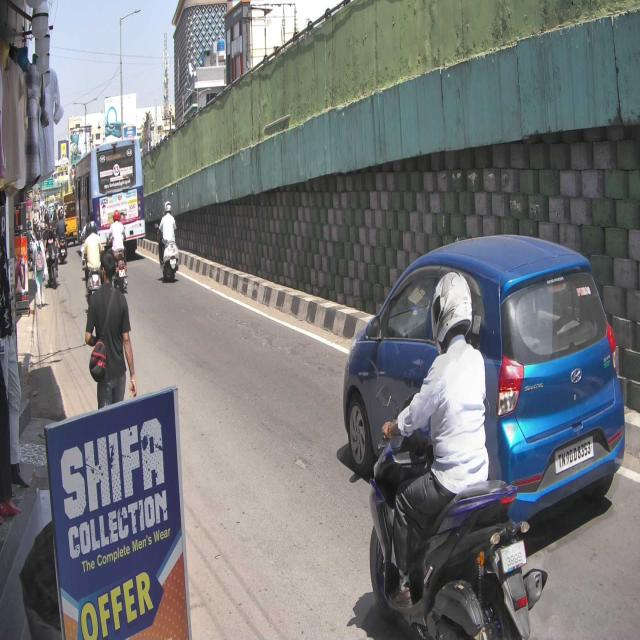single_rider: (365, 269, 543, 640)
